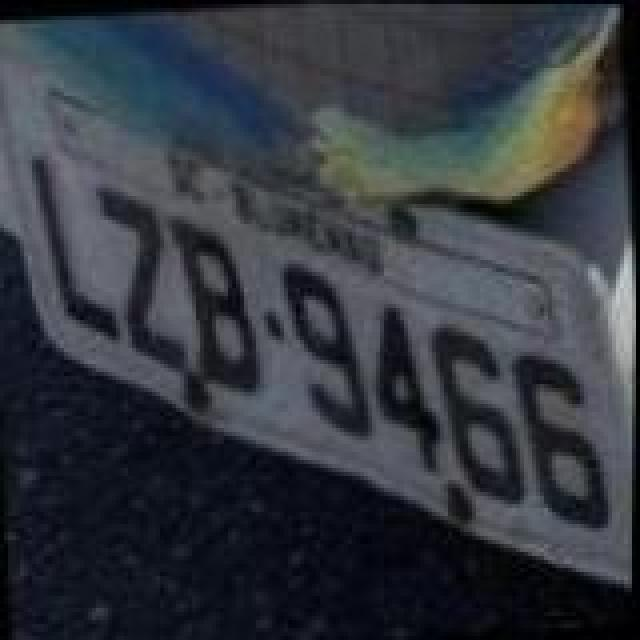4: (368, 296, 452, 480)
6: (508, 346, 620, 534), (426, 316, 530, 508)
9: (272, 258, 376, 450)
B: (160, 208, 264, 400)
L: (26, 150, 126, 346)
Z: (90, 176, 190, 376)
